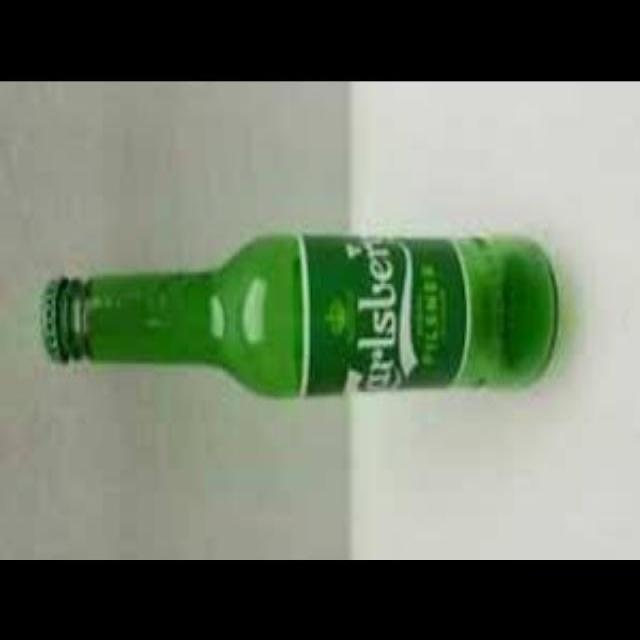Glass: (40, 229, 562, 403)
